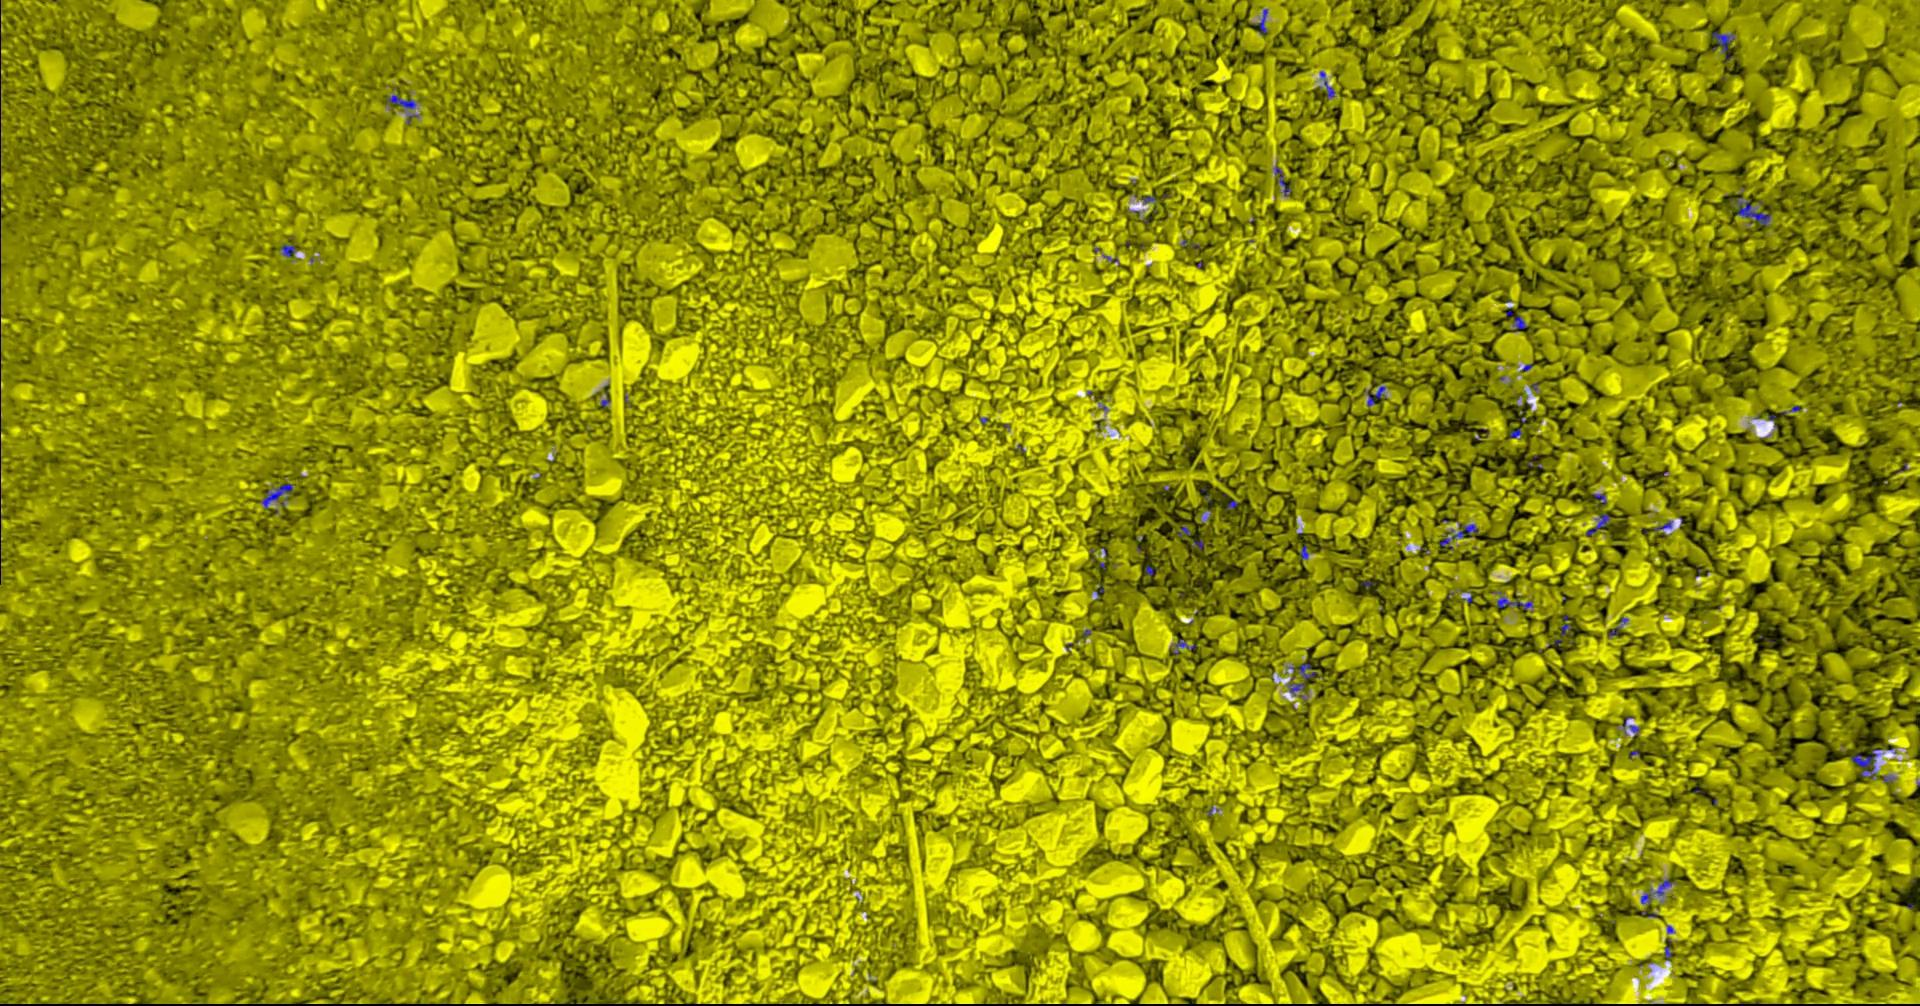ant: (1853, 747, 1895, 779), (1733, 192, 1771, 226), (1441, 523, 1481, 549), (1290, 662, 1319, 695), (263, 483, 295, 508), (1713, 30, 1736, 60), (1556, 614, 1573, 644), (1587, 513, 1611, 535), (1275, 166, 1293, 196), (1498, 596, 1534, 610), (1321, 71, 1337, 99), (1368, 385, 1388, 405), (1609, 616, 1629, 636), (389, 94, 417, 108), (1175, 636, 1197, 653), (1623, 716, 1641, 735), (1657, 879, 1674, 895), (1260, 8, 1269, 34), (1514, 315, 1528, 332), (282, 244, 297, 257)
